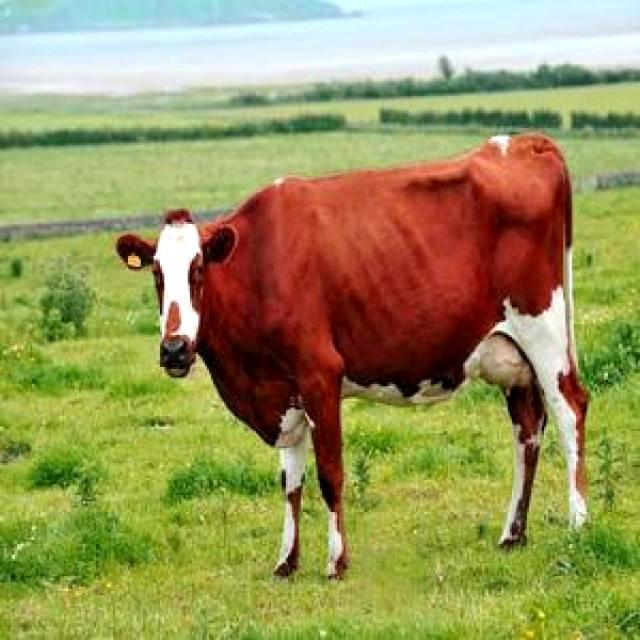COW: (116, 134, 588, 579)
